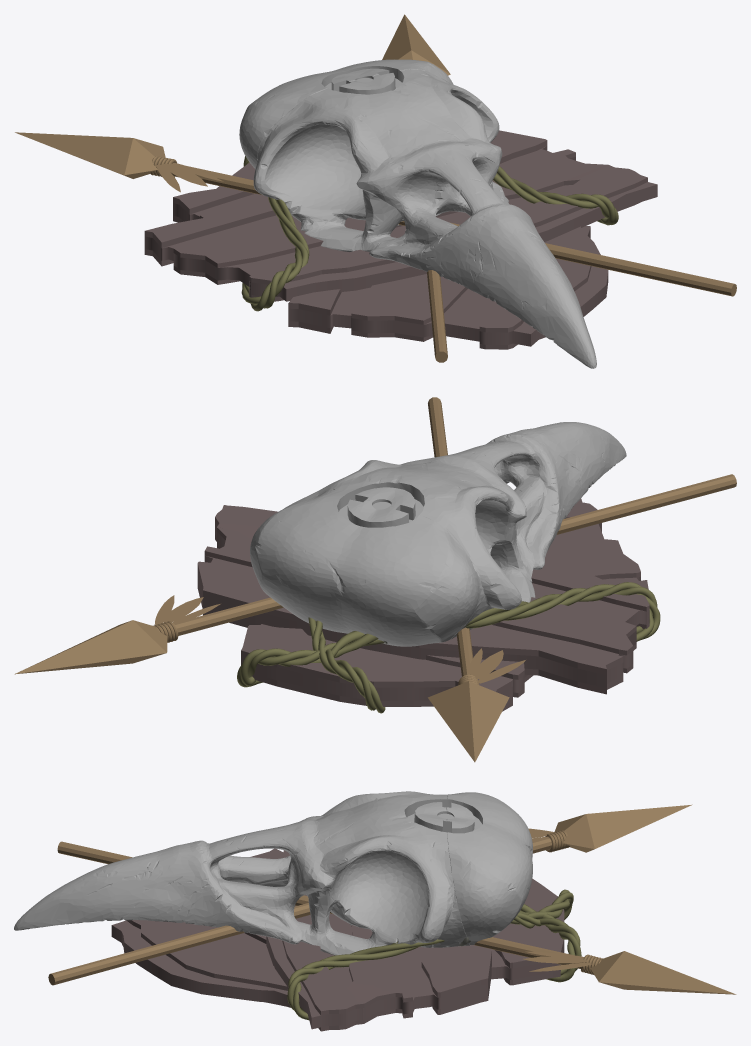
File: sheild_2.fbx
The picture shows the model from 3 angles, top to bottom: view 1: azimuth 30°, elevation 25°; view 2: azimuth 150°, elevation 25°; view 3: azimuth 270°, elevation 25°; orthographic projection. The views are drawn at different scales.
Parts seen in each view (by area): view 1: skull, pCube6, spears, pCylinder17; view 2: skull, pCube6, spears, pCylinder17; view 3: skull, pCube6, spears, pCylinder17.
Boxes of the visible parts, <box> form: skull: <box>239,59,596,368</box>; pCube6: <box>144,130,657,349</box>; spears: <box>15,14,736,362</box>; pCylinder17: <box>241,156,618,311</box>; skull: <box>250,422,626,646</box>; pCube6: <box>197,499,649,711</box>; spears: <box>14,397,736,762</box>; pCylinder17: <box>237,582,660,713</box>; skull: <box>14,791,532,955</box>; pCube6: <box>111,848,564,1031</box>; spears: <box>48,804,736,994</box>; pCylinder17: <box>287,889,581,1020</box>.
Size of the model in its own units: 78.04 by 26.99 by 118.
